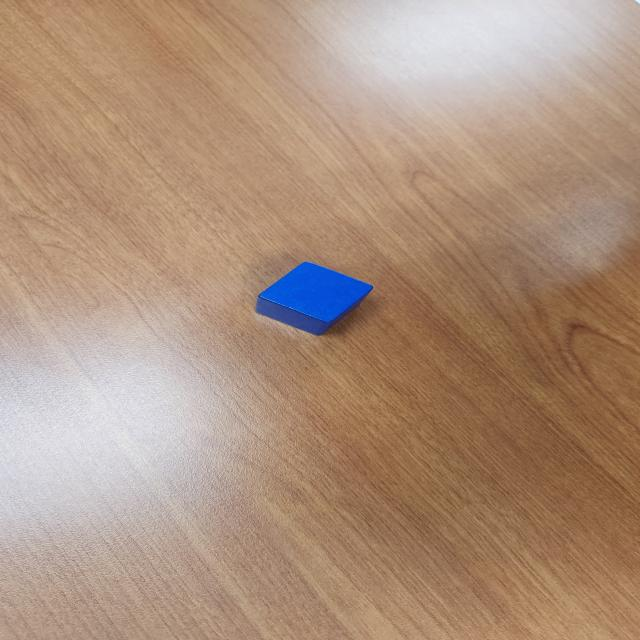blue: (255, 261, 374, 337)
